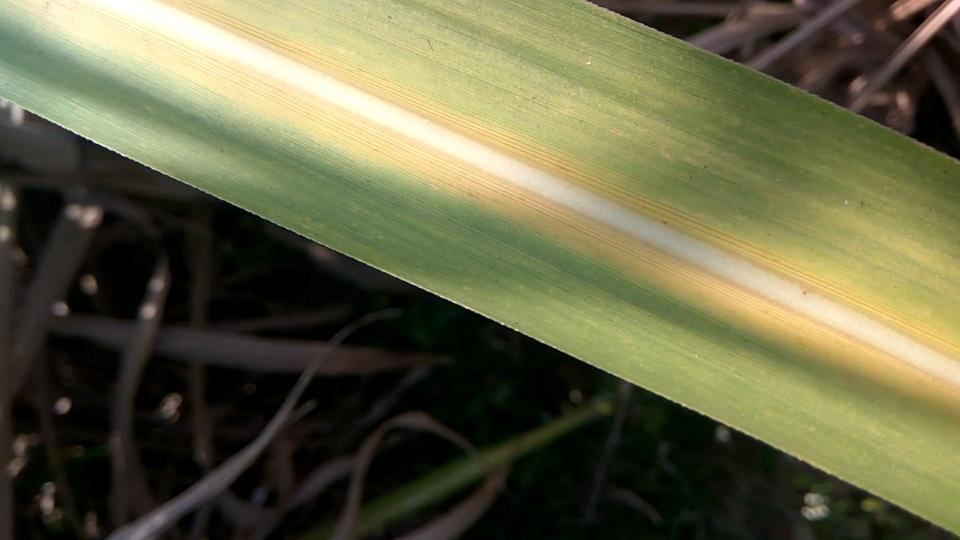Yellow: (5, 0, 959, 409), (156, 0, 959, 363)
